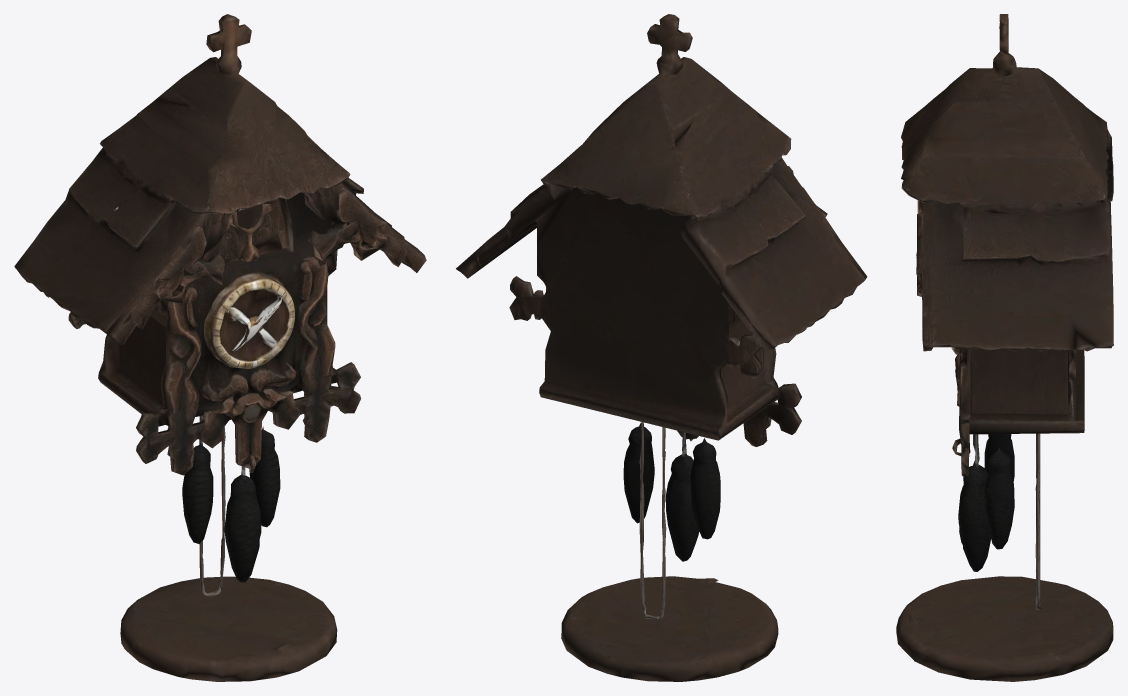
Rendered from token-cuckoo-clock.glb.
The picture shows the model from 3 angles, left to right: view 1: azimuth 30°, elevation 25°; view 2: azimuth 150°, elevation 25°; view 3: azimuth 270°, elevation 25°; orthographic projection.
Bounding box in the file's own units: 1.04 × 1.9 × 0.6027.
1 material, 1 textured.
